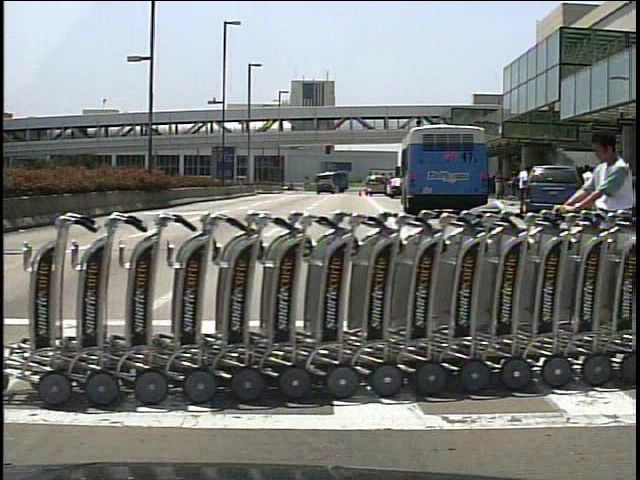person: (567, 125, 638, 355), (571, 164, 591, 224), (580, 165, 601, 214), (512, 162, 530, 212)
